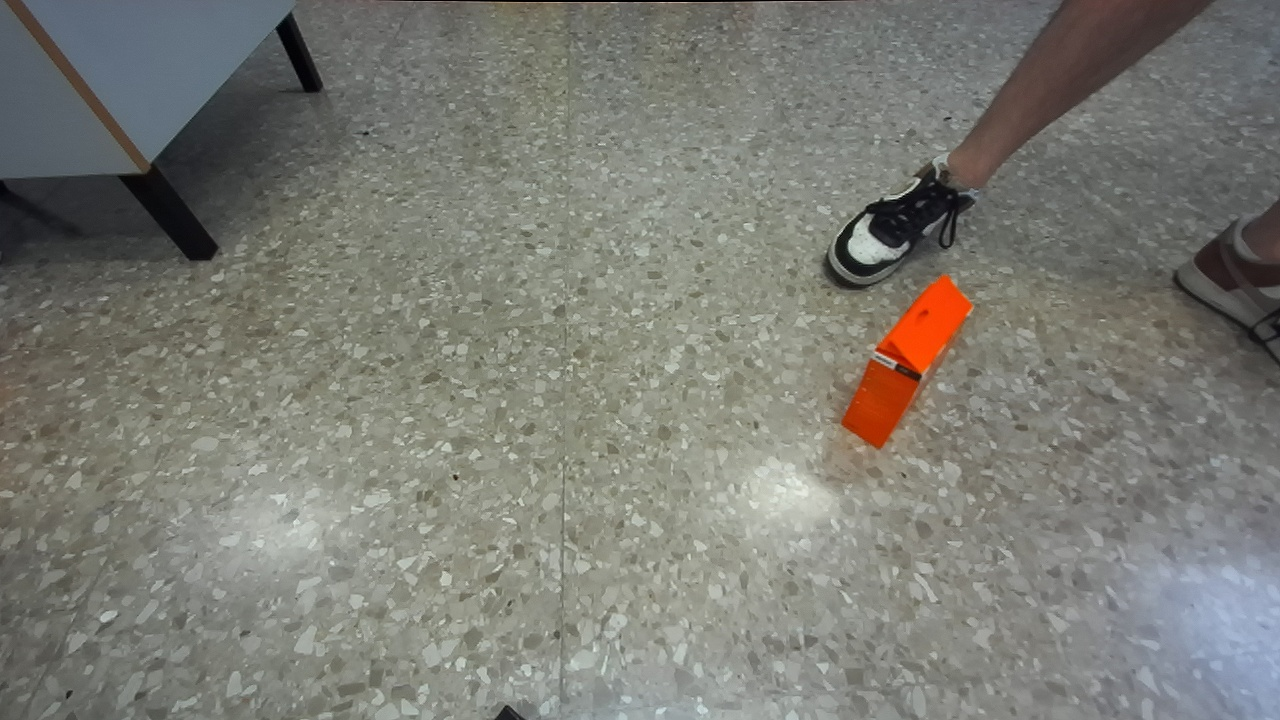caja_manguera: (842, 276, 971, 447)
